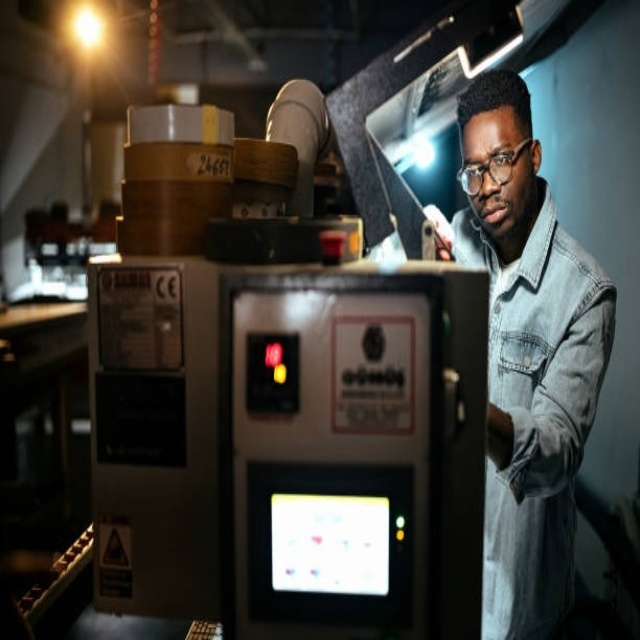Gafas: (457, 138, 531, 196)
Sin_mascara: (478, 198, 513, 240)
